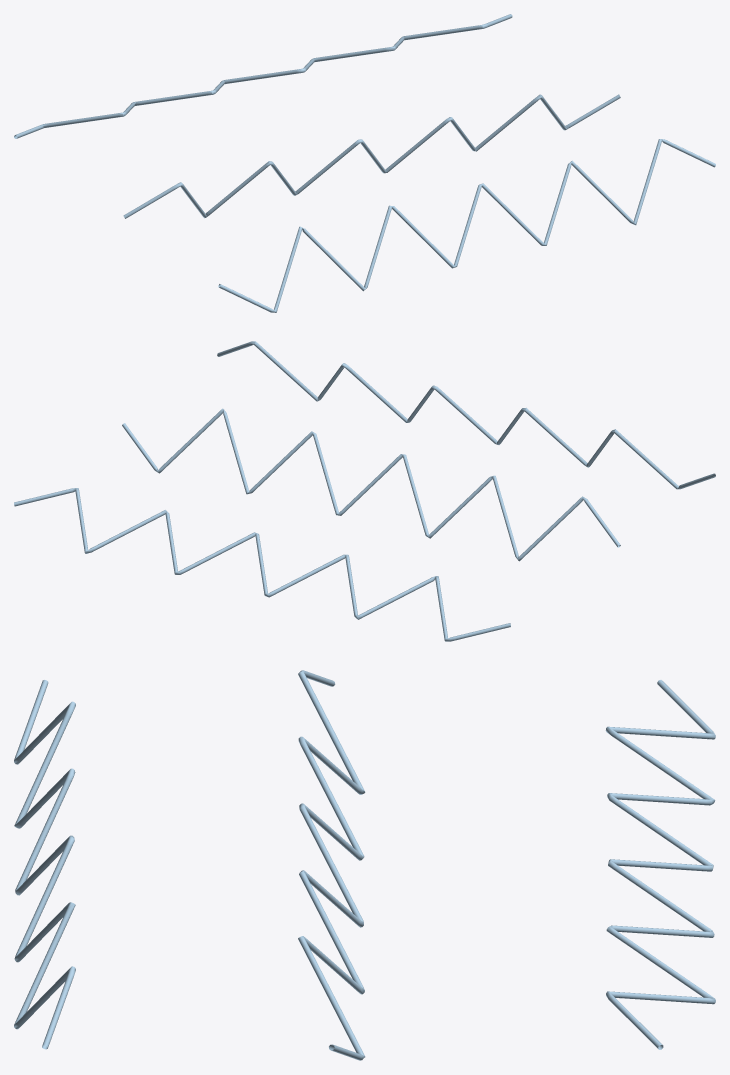
Rendered from jp_fil2.fbx.
3 views of the same model, one above another, from view 1: azimuth 30°, elevation 25°; view 2: azimuth 150°, elevation 25°; view 3: azimuth 270°, elevation 25° (orthographic). The views are drawn at different scales.
Visible parts, largest first — view 1: sweep2, sweep1, sweep3; view 2: sweep1, sweep3, sweep2; view 3: sweep3, sweep2, sweep1.
Boxes of the visible parts, x1=… form: sweep2: x1=218, y1=139, x2=715, y2=312; sweep1: x1=123, y1=94, x2=620, y2=218; sweep3: x1=14, y1=14, x2=512, y2=138; sweep1: x1=122, y1=408, x2=620, y2=561; sweep3: x1=14, y1=488, x2=510, y2=641; sweep2: x1=217, y1=341, x2=715, y2=489; sweep3: x1=605, y1=680, x2=715, y2=1049; sweep2: x1=14, y1=680, x2=75, y2=1049; sweep1: x1=298, y1=670, x2=365, y2=1060.
Size of the model in its own units: 6.48 by 0.7822 by 5.26.
